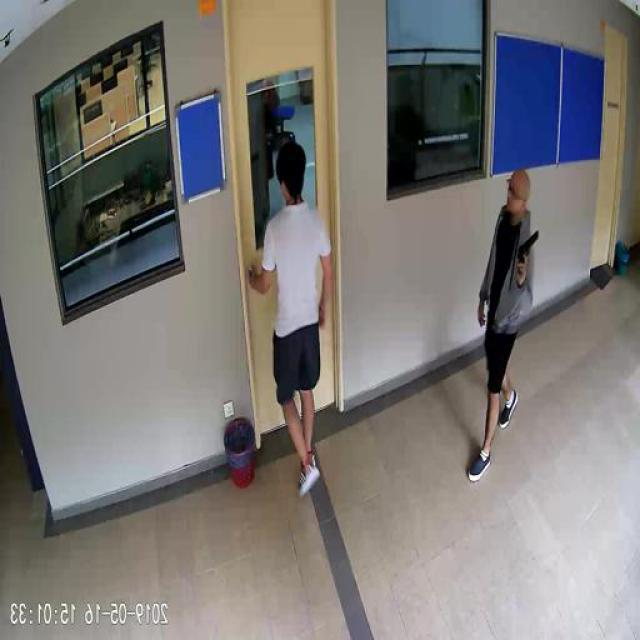Gun: (518, 228, 542, 278)
